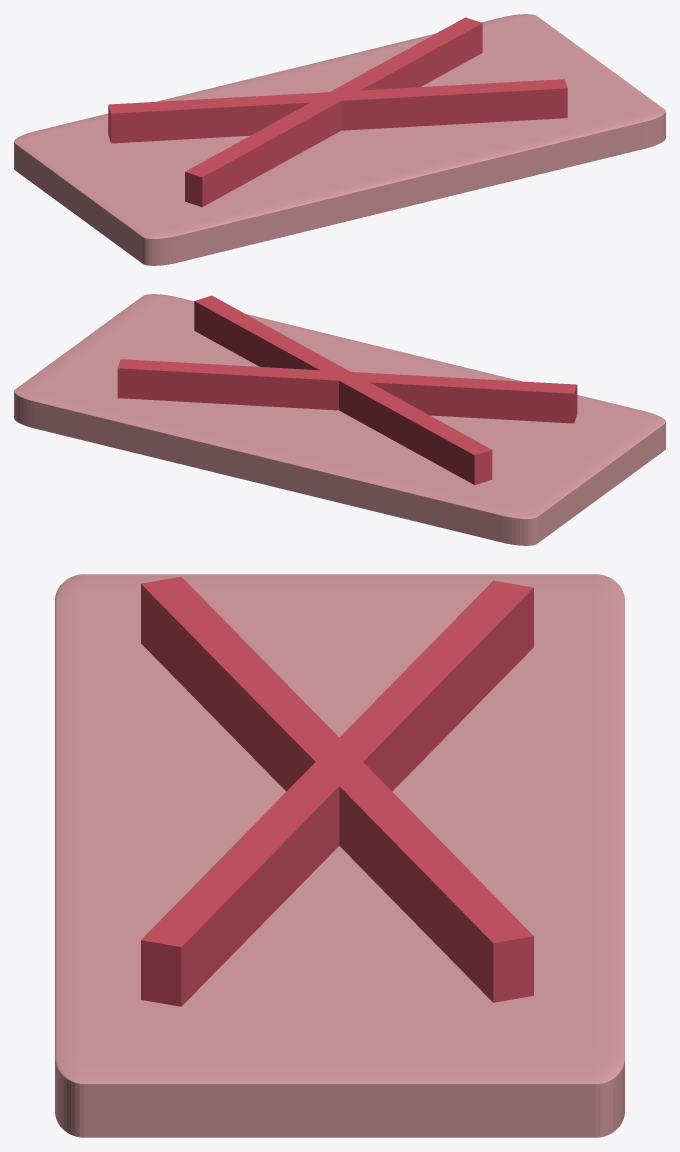
File: Dont Sign.glb
3 renders of one model, top to bottom at view 1: azimuth 30°, elevation 25°; view 2: azimuth 150°, elevation 25°; view 3: azimuth 270°, elevation 25°, orthographic. The views are drawn at different scales.
Visible parts, largest first — view 1: Mesh_Mesh_head_geo.001_lambert2SG.001; view 2: Mesh_Mesh_head_geo.001_lambert2SG.001; view 3: Mesh_Mesh_head_geo.001_lambert2SG.001.
Boxes of the visible parts, left/top/right/bottom form: Mesh_Mesh_head_geo.001_lambert2SG.001: left=14, top=14, right=665, bottom=265; Mesh_Mesh_head_geo.001_lambert2SG.001: left=14, top=294, right=665, bottom=545; Mesh_Mesh_head_geo.001_lambert2SG.001: left=55, top=574, right=624, bottom=1137.
Size of the model in its own units: 55 by 6 by 26.
